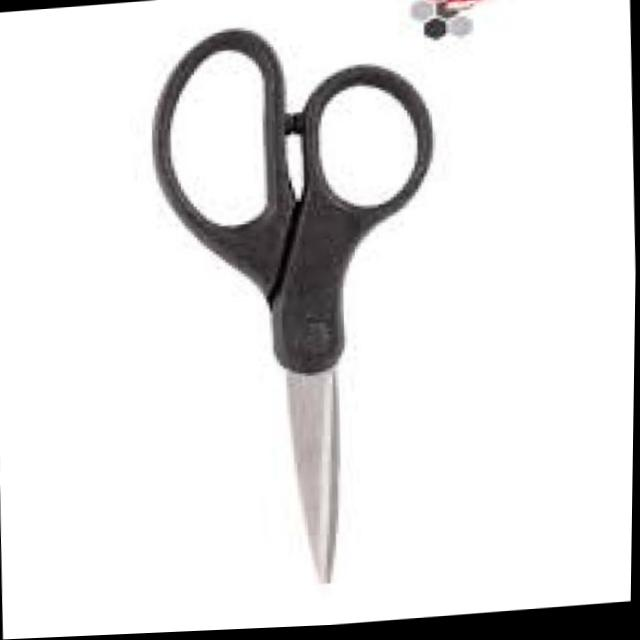scissor: (140, 14, 449, 599)
